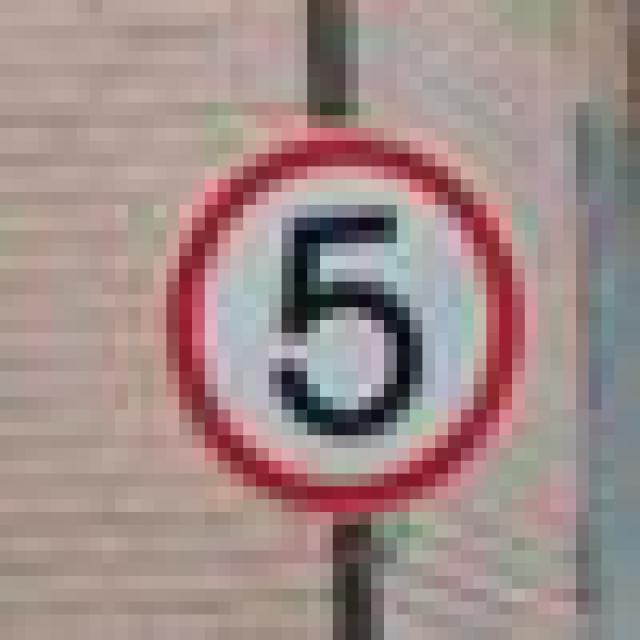speed_limit_20: (141, 115, 512, 512)
